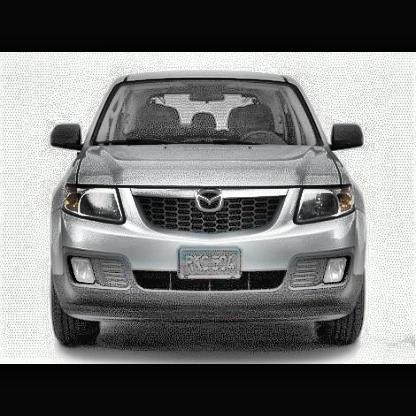Mazda Tribute SUV 2011: (51, 72, 368, 347)
